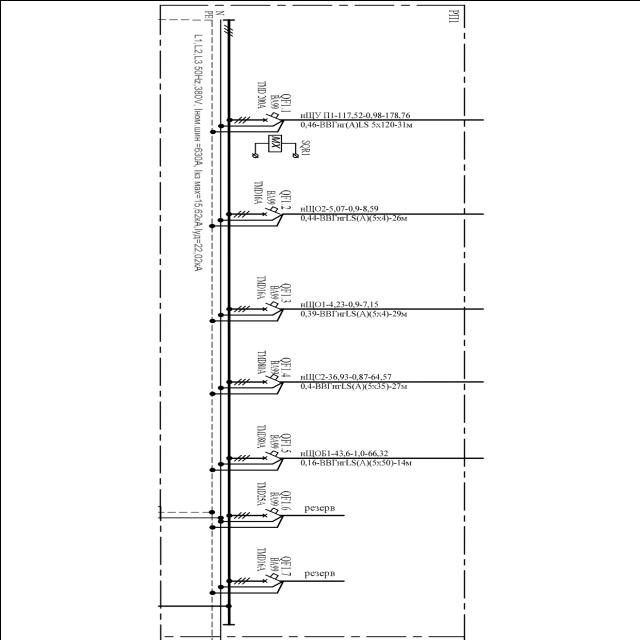-: (253, 80, 280, 112), (252, 423, 278, 448), (252, 179, 277, 205), (254, 348, 280, 372), (254, 480, 279, 504), (254, 274, 278, 299), (255, 547, 279, 571), (298, 138, 310, 156), (446, 8, 460, 22)
MX: (250, 133, 298, 158)
QF: (260, 374, 280, 384), (261, 572, 281, 582), (260, 112, 280, 122), (260, 301, 280, 311), (262, 206, 282, 216), (259, 508, 279, 518), (260, 450, 280, 460)
